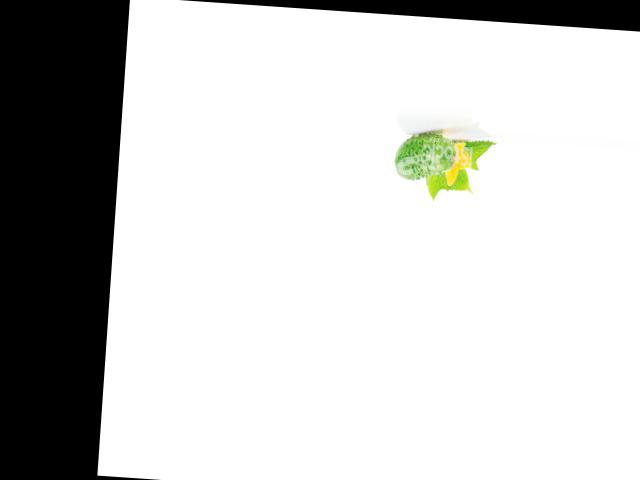cucumber: (393, 131, 455, 182)
